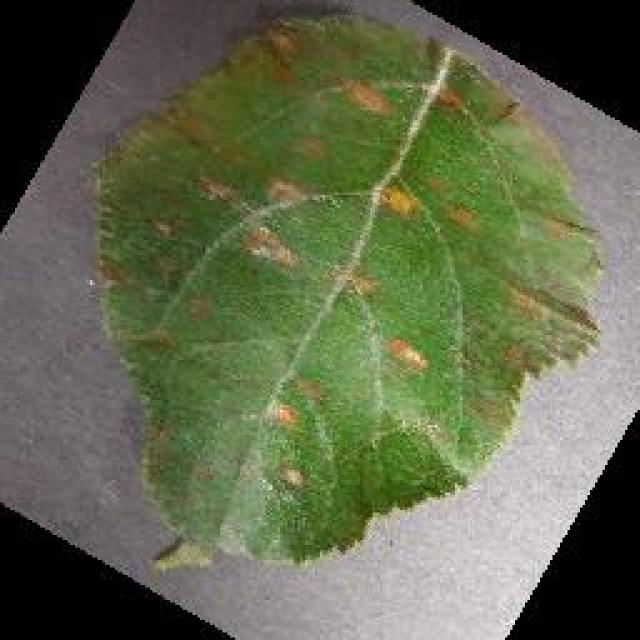apple scab disease: (88, 5, 608, 570)
